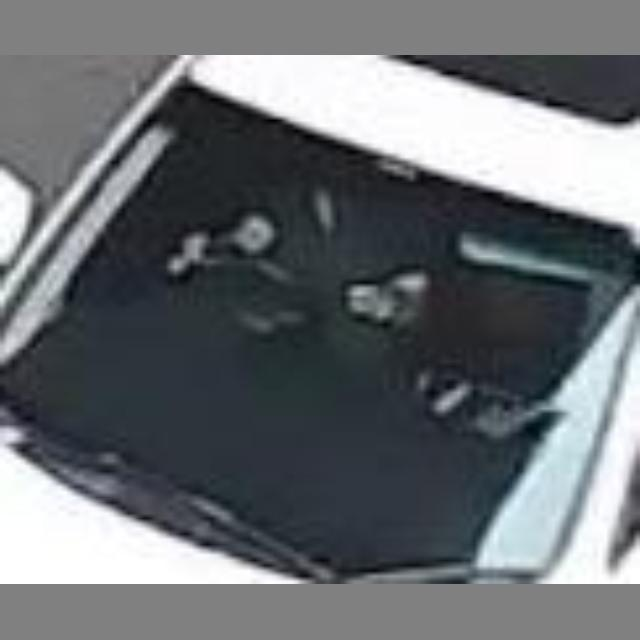tidak-pakai: (210, 160, 446, 354)
